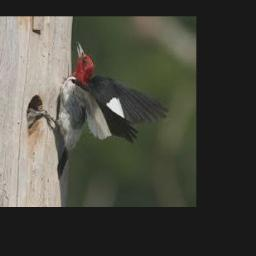Woodpecker: (28, 42, 167, 179)
